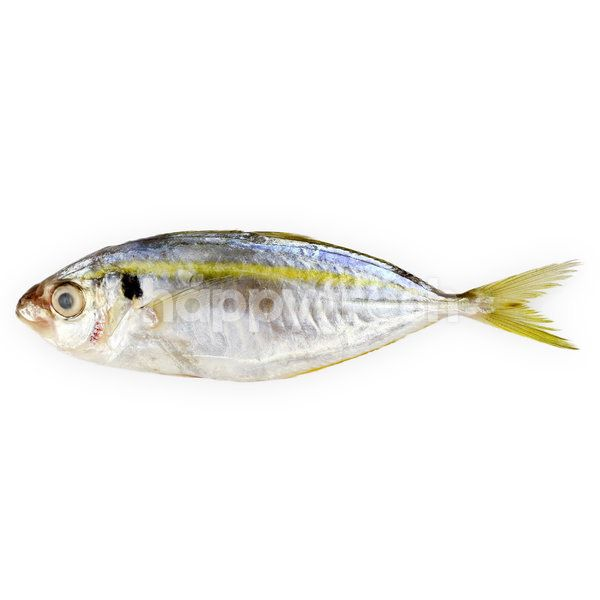Ikan Selar: (14, 230, 575, 385)
